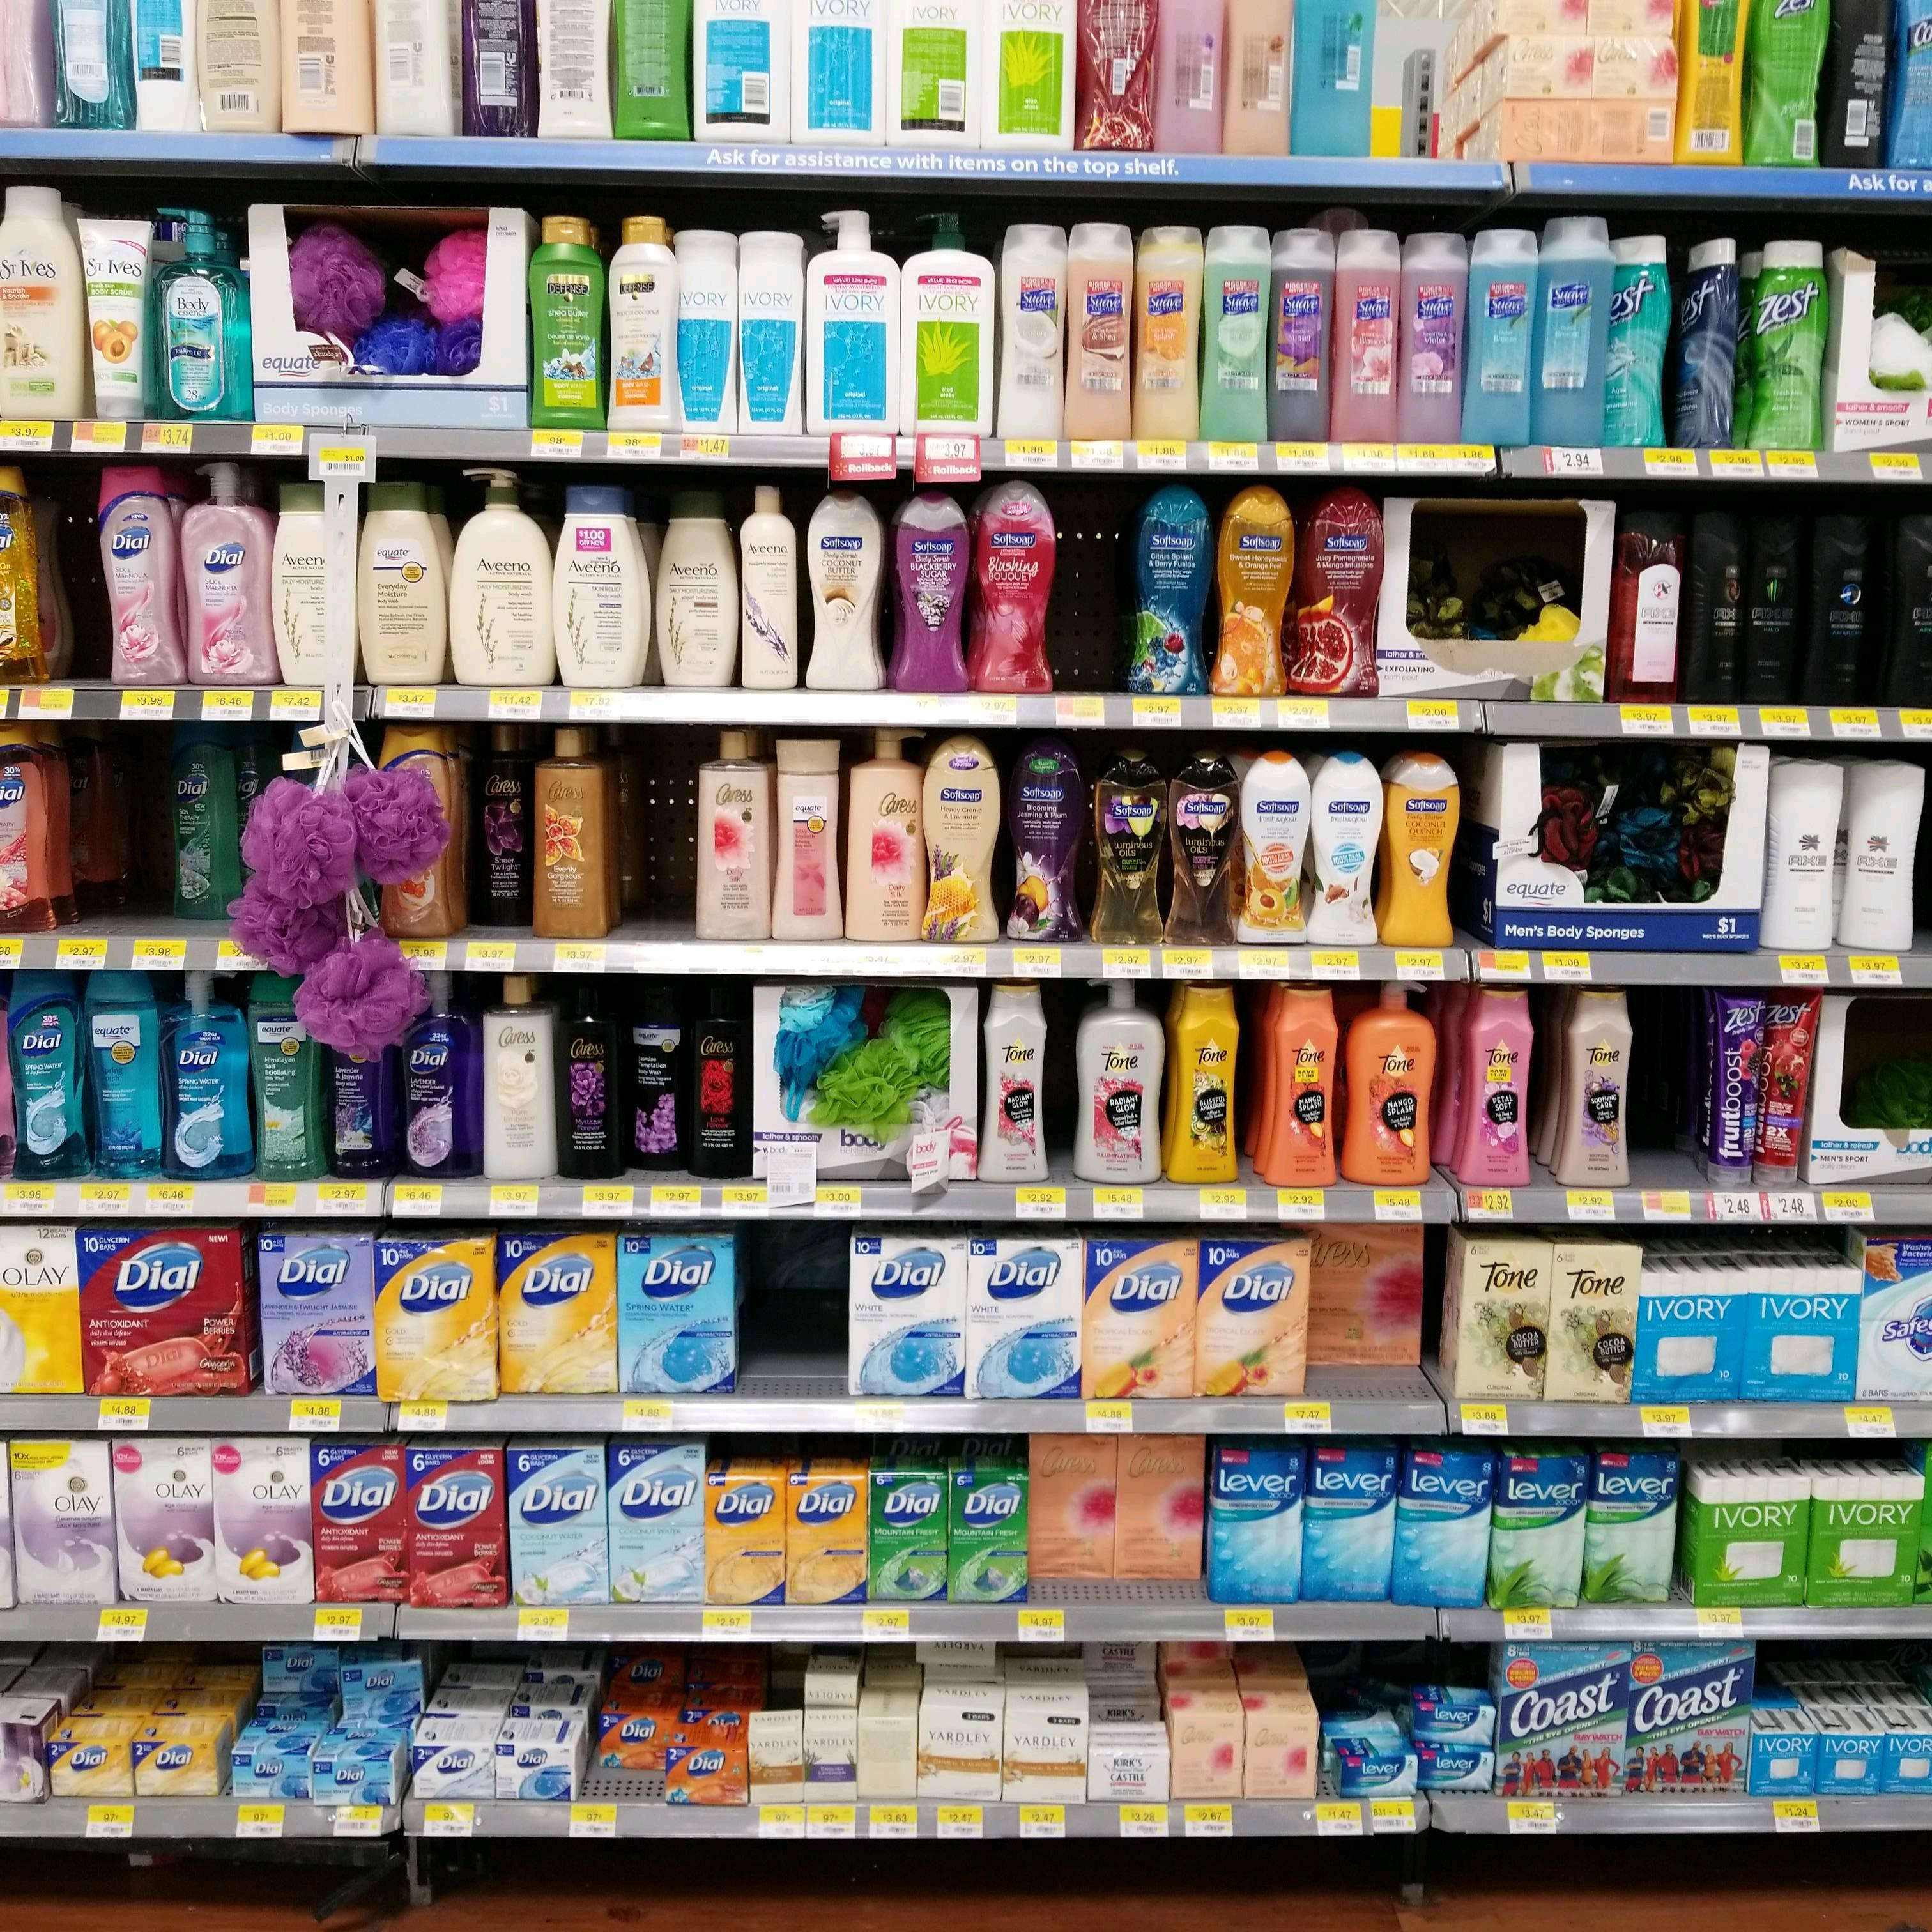empty: (600, 743, 697, 939), (85, 731, 180, 927), (1047, 497, 1134, 701), (747, 1233, 849, 1403), (1635, 1007, 1713, 1185)
